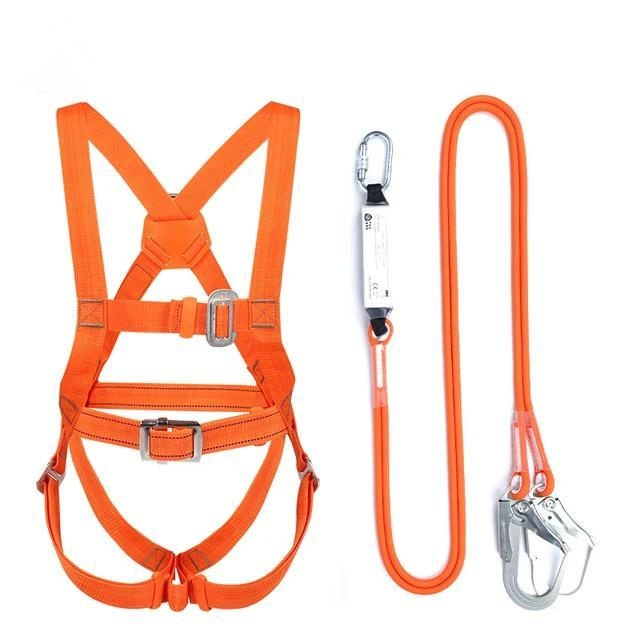Arnes_seguridad: (33, 100, 322, 613)
